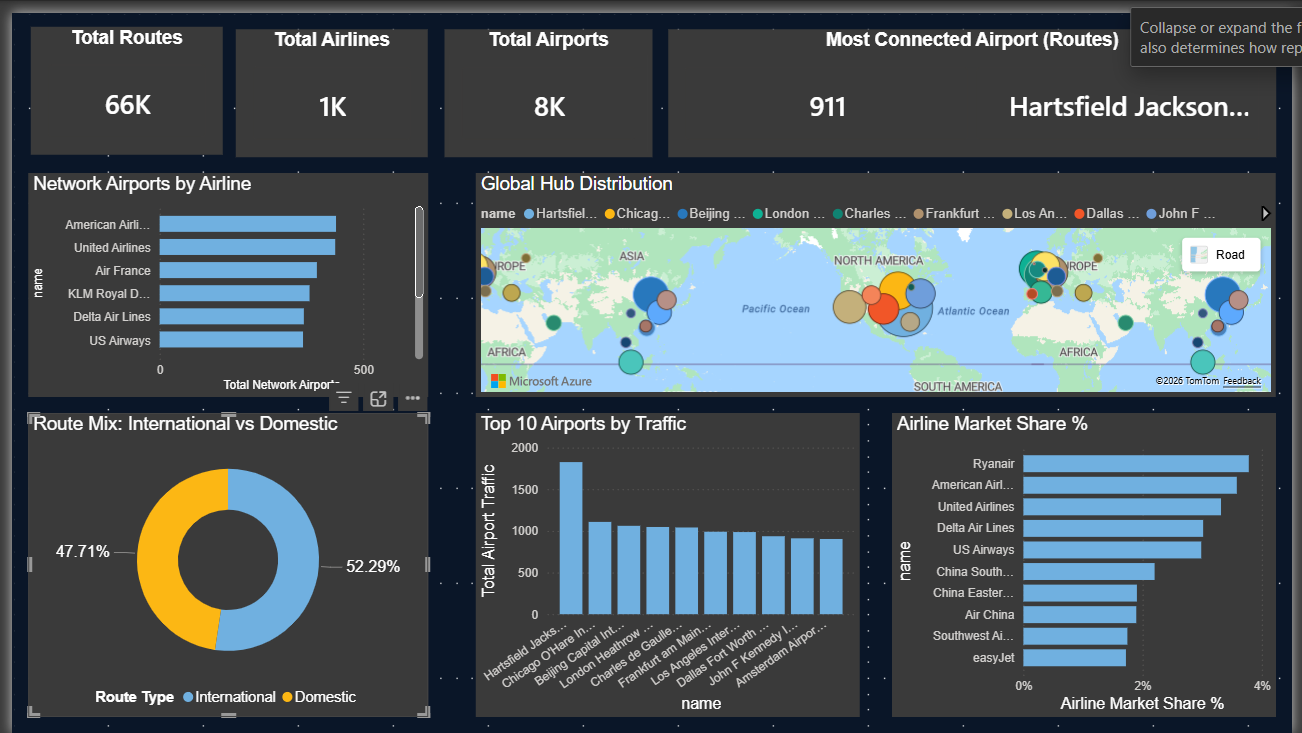

What the dashboard file says about the page in this screenshot:
{"tool":"powerbi","page":{"name":"Page 1","canvas":[1280,720],"ordinal":0},"visuals":[{"type":"clusteredBarChart","title":"Network Airports by Airline","fields":{"Category":["public airlines.name"],"Y":["public airlines.Total Network Airports"]},"box":[16,160,400,224],"z":0},{"type":"azureMap","title":"Global Hub Distribution","fields":{"Data":["public airlines.Total Network Airports"],"Y":["public airports.latitude"],"X":["public airports.longitude"],"Size":["public airlines.Total Airport Traffic"],"Series":["public airports.name"]},"box":[464,160,800,224],"z":1000},{"type":"clusteredColumnChart","title":"Top 10 Airports by Traffic","fields":{"Category":["public airports.name"],"Y":["public airlines.Total Airport Traffic"]},"box":[464,400,384,304],"z":2000},{"type":"clusteredBarChart","title":"Airline Market Share %","fields":{"Category":["public airlines.name"],"Y":["public airlines.Airline Market Share %"]},"box":[880,400,384,304],"z":3000},{"type":"donutChart","title":"Route Mix: International vs Domestic","fields":{"Category":["public routes.Route Type"],"Y":["public airlines.Total Routes"]},"box":[16,400,400,304],"z":5000},{"type":"cardVisual","title":"Total Routes","fields":{"Data":["public airlines.Total Routes"]},"box":[18.5,14.2,192,128],"z":5001},{"type":"cardVisual","title":"Total Airports","fields":{"Data":["public airlines.Total Airports"]},"box":[432,16,208,128],"z":5002},{"type":"cardVisual","title":"Total Airlines","fields":{"Data":["public airlines.Total Airlines"]},"box":[224,16,192,128],"z":5003},{"type":"cardVisual","title":"Most Connected Airport (Routes)","fields":{"Data":["public airlines.Max Airport Routes","public airlines.Most Connected Airport"]},"box":[656,16,608,128],"z":5004}]}

Visuals, with their boxes on the page's 1280x720 design canvas (x1, y1, x2, y2). These are canvas units, not pixel positions in the 1302x733 screenshot, which may show the page scaled, cropped or inside an application window:
"Network Airports by Airline" clusteredBarChart: box(16, 160, 416, 384)
"Global Hub Distribution" azureMap: box(464, 160, 1264, 384)
"Top 10 Airports by Traffic" clusteredColumnChart: box(464, 400, 848, 704)
"Airline Market Share %" clusteredBarChart: box(880, 400, 1264, 704)
"Route Mix: International vs Domestic" donutChart: box(16, 400, 416, 704)
"Total Routes" cardVisual: box(18, 14, 210, 142)
"Total Airports" cardVisual: box(432, 16, 640, 144)
"Total Airlines" cardVisual: box(224, 16, 416, 144)
"Most Connected Airport (Routes)" cardVisual: box(656, 16, 1264, 144)
